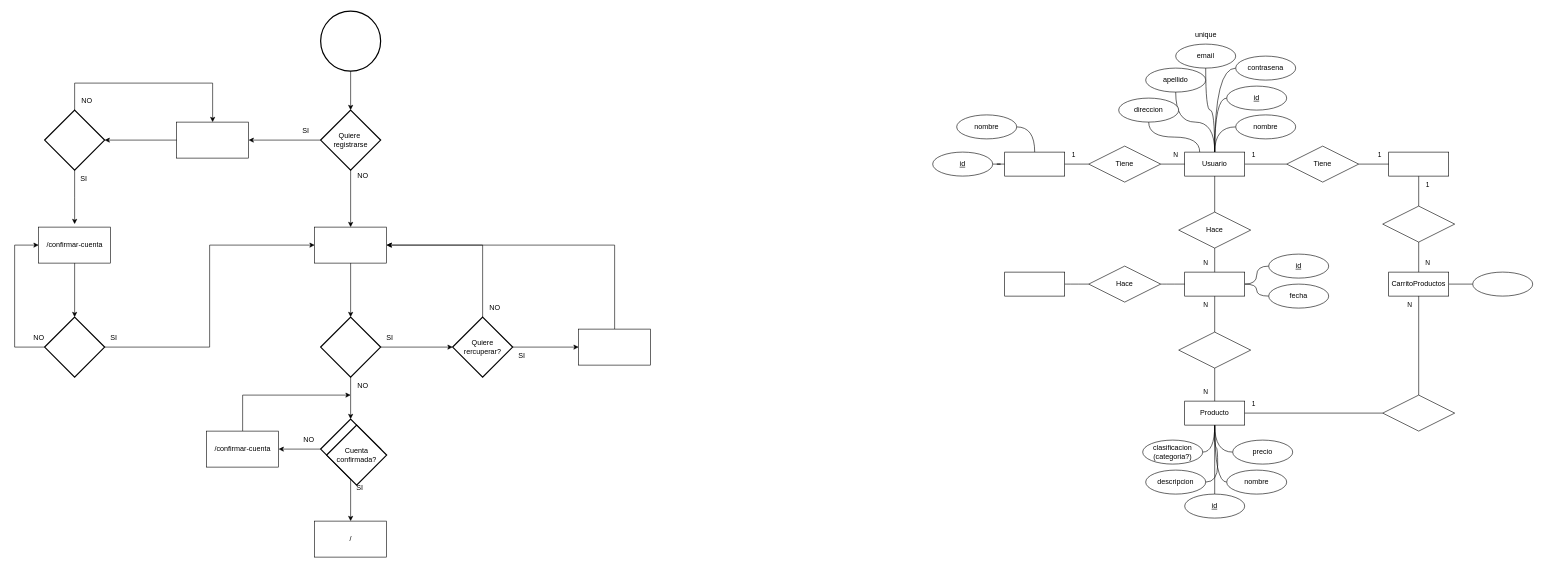
The diagram is 1544 pixels wide and 568 high, and some of its shapes have lost their labels. The centre of each missing label's shape, as x and y in pixels:
"/login" belongs at (x=350, y=244).
"/recuperar" belongs at (x=614, y=346).
"/register" belongs at (x=212, y=140).
"cantidad" belongs at (x=1502, y=284).
"Carrito" belongs at (x=1418, y=164).
"Comparte" belongs at (x=1418, y=224).
"Compra/Pedido" belongs at (x=1214, y=284).
"Confirmó?" belongs at (x=74, y=346).
"Contiene" belongs at (x=1214, y=350).
"Datos correctos?" belongs at (x=350, y=346).
"Es parte de" belongs at (x=1418, y=412).
"Estado?" belongs at (x=1034, y=284).
"INICIO" belongs at (x=350, y=40).
"Registrado" belongs at (x=74, y=139).
"Rol" belongs at (x=1034, y=164).
